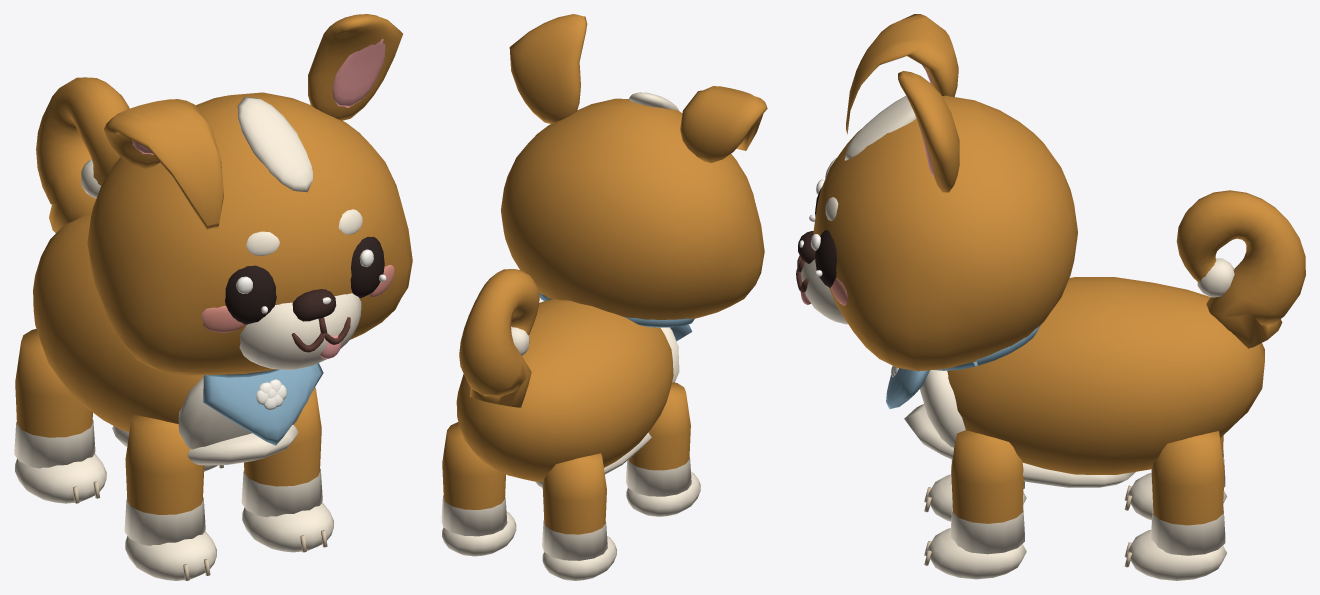
Rendered from dog.glb.
The picture shows the model from 3 angles, left to right: view 1: azimuth 30°, elevation 25°; view 2: azimuth 150°, elevation 25°; view 3: azimuth 270°, elevation 25°; orthographic projection. The views are drawn at different scales.
Visible parts, largest first — view 1: head, body, leg_FR, leg_BR, tail, leg_FL, ear_R, ear_L; view 2: head, body, tail, leg_BR, leg_BL, leg_FR, ear_L, ear_R; view 3: head, body, tail, leg_BL, leg_FL, ear_R, ear_L, leg_BR, leg_FR.
Part boxes in pixels (x1,y1,x2,y2): head: (87, 92, 412, 375); body: (33, 214, 323, 465); leg_FR: (124, 414, 216, 580); leg_BR: (14, 329, 106, 503); tail: (36, 77, 129, 232); leg_FL: (241, 387, 333, 552); ear_R: (104, 99, 223, 230); ear_L: (308, 14, 402, 120); head: (501, 92, 764, 327); body: (456, 292, 694, 481); tail: (459, 269, 539, 407); leg_BR: (542, 453, 616, 580); leg_BL: (441, 422, 516, 556); leg_FR: (626, 382, 700, 516); ear_L: (509, 14, 587, 123); ear_R: (680, 86, 767, 162); head: (796, 95, 1077, 371); body: (886, 277, 1264, 487); tail: (1176, 190, 1305, 348); leg_BL: (1124, 431, 1226, 580); leg_FL: (924, 430, 1026, 579); ear_R: (846, 14, 958, 134); ear_L: (898, 71, 959, 192); leg_BR: (1124, 435, 1226, 520); leg_FR: (924, 460, 1026, 521).
Bounding box in the file's own units: 0.3503 × 0.6067 × 0.547.
